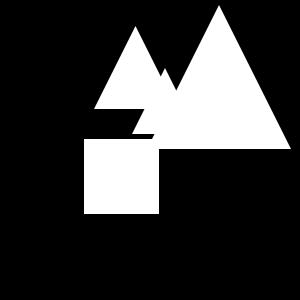circle: (84, 139, 159, 214)
triangle: (147, 5, 291, 149), (94, 26, 177, 109), (132, 68, 198, 134)
